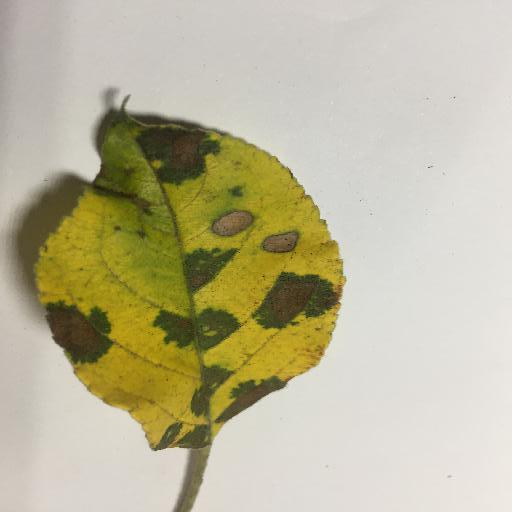Brown_Spot: (45, 301, 103, 354), (252, 277, 317, 324), (147, 130, 200, 165), (100, 189, 148, 207), (212, 214, 256, 233), (265, 230, 298, 255), (233, 387, 267, 410), (187, 274, 208, 289), (171, 322, 191, 330)
